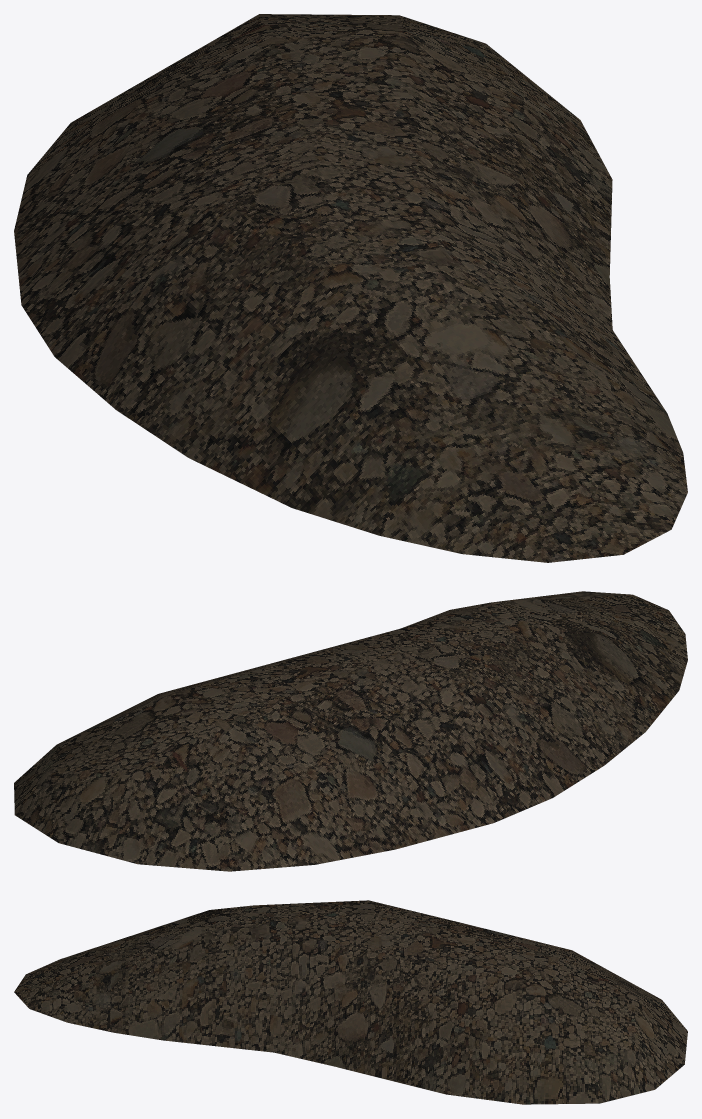
File: gravel_pile_hr_1.glb
The picture shows the model from 3 angles, top to bottom: view 1: azimuth 30°, elevation 25°; view 2: azimuth 150°, elevation 25°; view 3: azimuth 270°, elevation 25°; orthographic projection. The views are drawn at different scales.
Visible parts, largest first — view 1: gravel_pile_hr_1; view 2: gravel_pile_hr_1; view 3: gravel_pile_hr_1.
Boxes of the visible parts, <box> form: gravel_pile_hr_1: <box>14,14,687,562</box>; gravel_pile_hr_1: <box>14,591,687,871</box>; gravel_pile_hr_1: <box>14,900,687,1104</box>.
Bounding box in the file's own units: 1.17 × 0.2567 × 1.9.
1 material, 1 textured.
